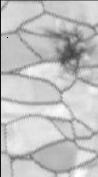good_void: (42, 27, 88, 76)
